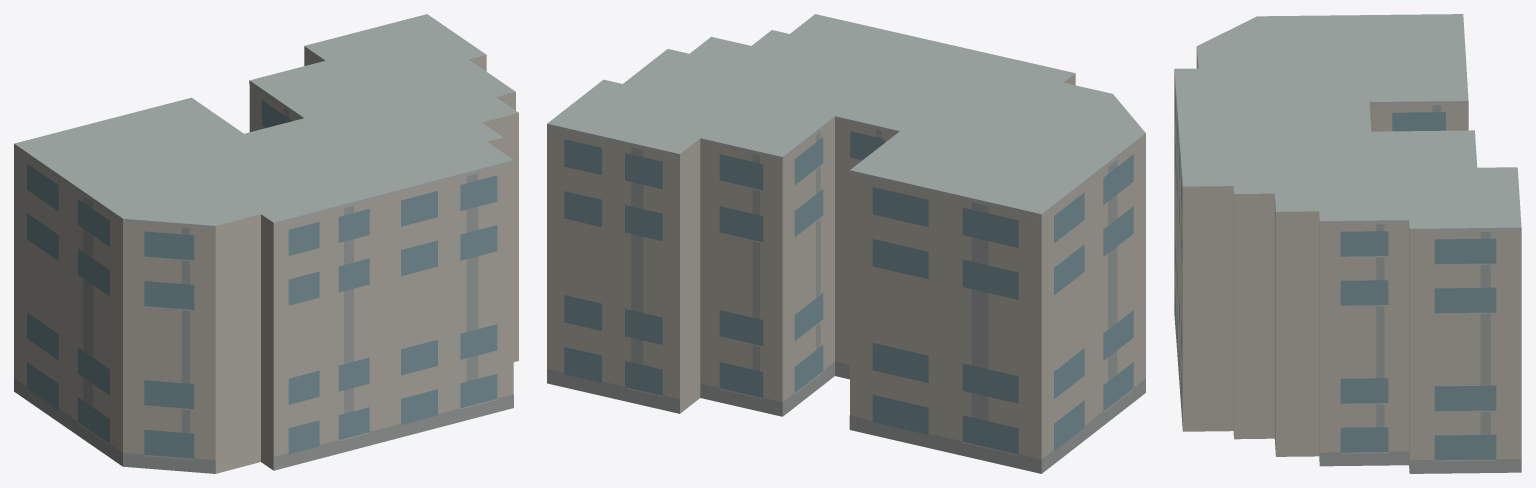
Rendered from residential-8056eaac-fa5b-4dec-9ae6-a35dfb5295f7.glb.
3 renders of one model, left to right at view 1: azimuth 30°, elevation 25°; view 2: azimuth 150°, elevation 25°; view 3: azimuth 270°, elevation 25°, orthographic. The views are drawn at different scales.
Visible parts, largest first — view 1: residential-8056eaac-fa5b-4dec-9ae6-a35dfb5295f7.tmp; view 2: residential-8056eaac-fa5b-4dec-9ae6-a35dfb5295f7.tmp; view 3: residential-8056eaac-fa5b-4dec-9ae6-a35dfb5295f7.tmp.
Boxes of the visible parts, x1,y1,x2,y2 form: residential-8056eaac-fa5b-4dec-9ae6-a35dfb5295f7.tmp: [14, 14, 518, 473]; residential-8056eaac-fa5b-4dec-9ae6-a35dfb5295f7.tmp: [547, 14, 1145, 473]; residential-8056eaac-fa5b-4dec-9ae6-a35dfb5295f7.tmp: [1174, 14, 1521, 473].
Bounding box in the file's own units: 28.68 × 15.25 × 19.58.
